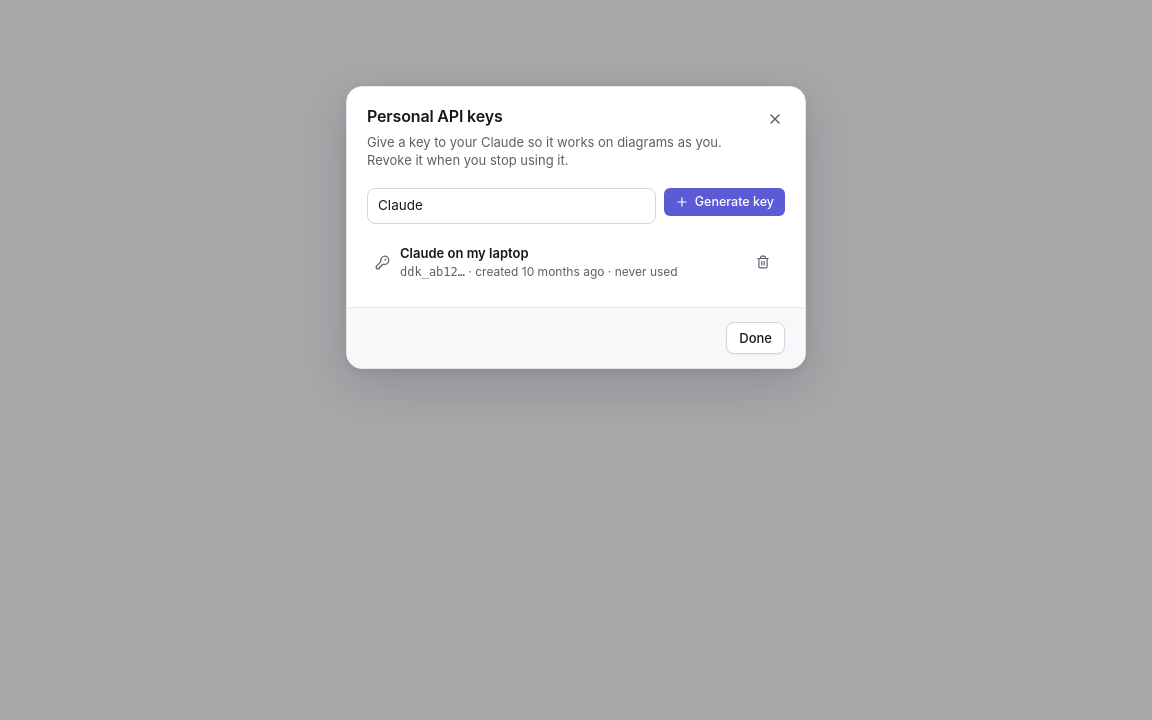
Test: ApiKeysDialog › should not create a key without a label
Expected: the text "Claude on my laptop" is shown, [400,245,528,261]
Clear the field named "Key label": (511, 206) [367,188,656,224]
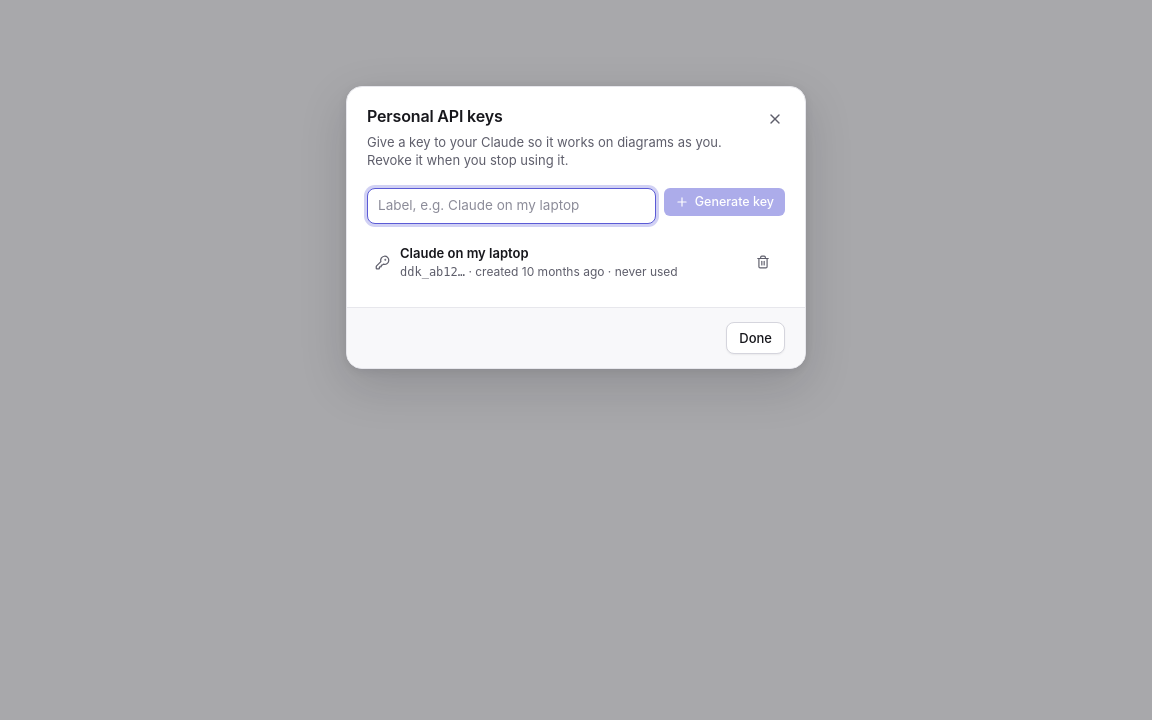
Expected: the button "Generate key" is disabled, [664,188,785,216]
